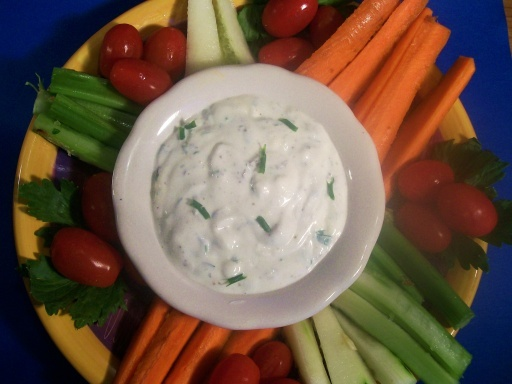background: (11, 0, 409, 230), (120, 55, 278, 176)
